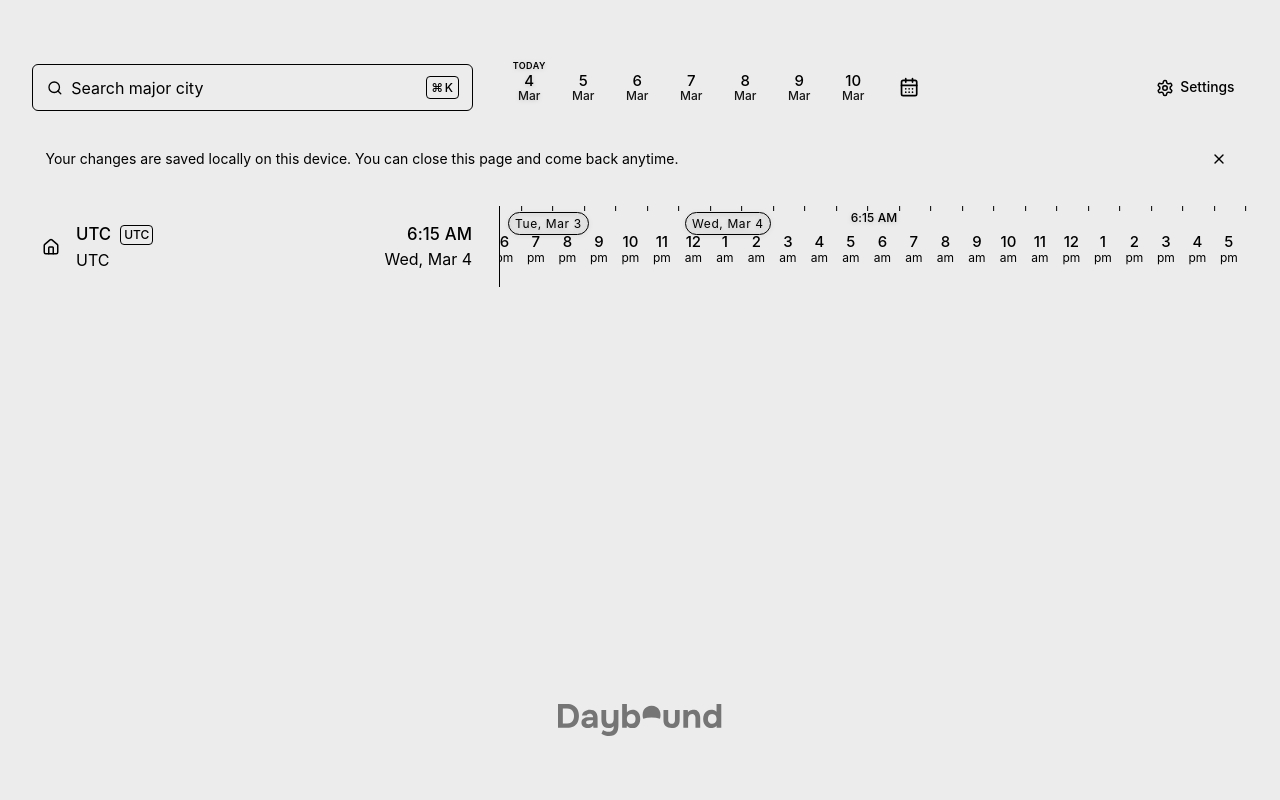
Test: App local save notice › dismisses notice and keeps it hidden after reload
Click the button named "Dismiss local save notice": (1218, 159) x1=1202 y1=143 x2=1234 y2=175
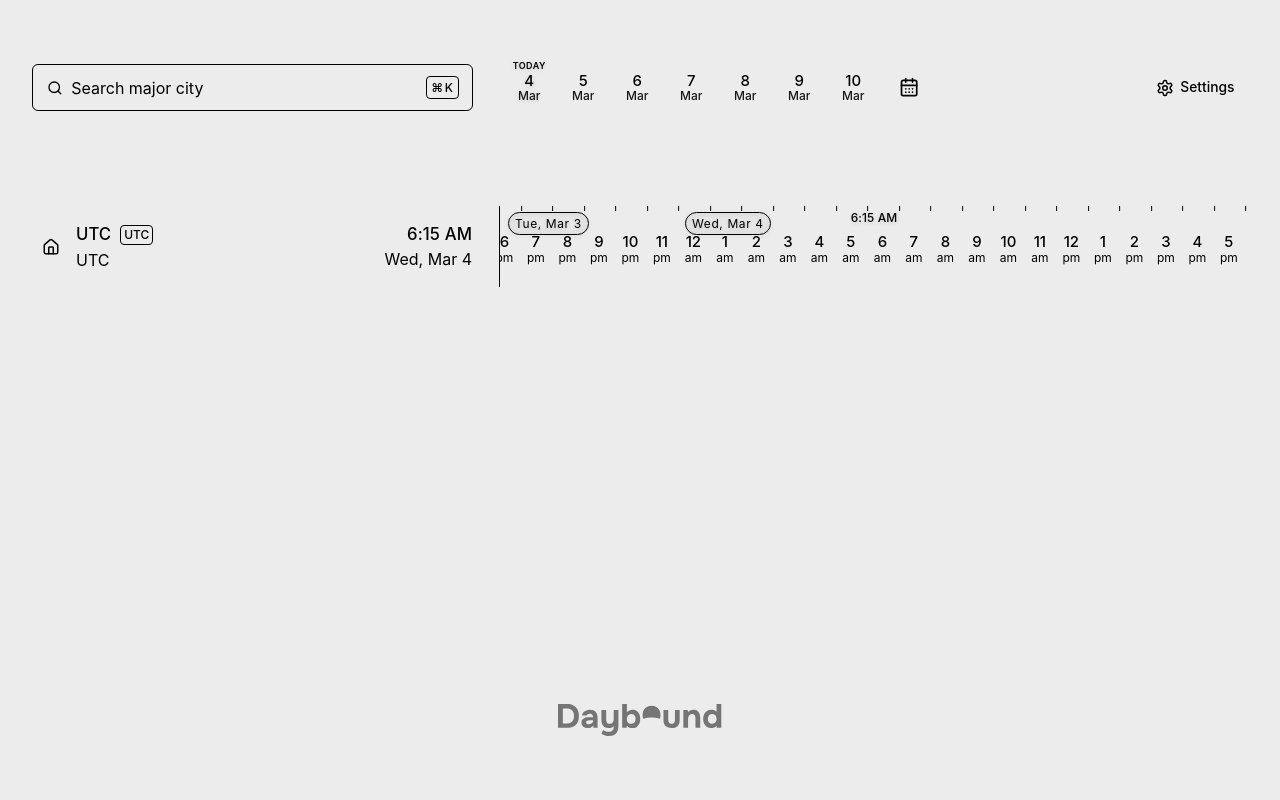
expect the text "Your changes are saved locally on this device. You can close this page and come back anytime." is gone: met
